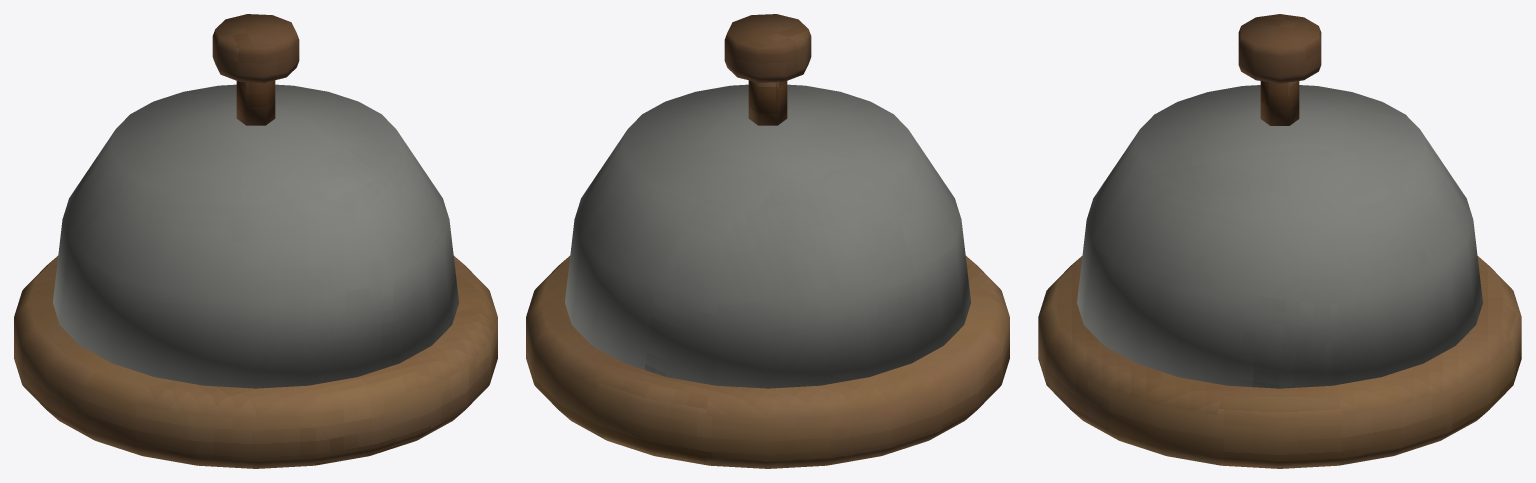
The model's file is bell.glb.
3 views of the same model, side by side, from view 1: azimuth 30°, elevation 25°; view 2: azimuth 150°, elevation 25°; view 3: azimuth 270°, elevation 25° (orthographic).
Visible parts, largest first — view 1: prop_bell_felt, prop_bell_wood; view 2: prop_bell_felt, prop_bell_wood; view 3: prop_bell_felt, prop_bell_wood.
Boxes of the visible parts, box(x1,y1,x2,y2) form: prop_bell_felt: box(53, 84, 458, 388); prop_bell_wood: box(14, 14, 497, 468); prop_bell_felt: box(565, 84, 970, 388); prop_bell_wood: box(526, 14, 1009, 468); prop_bell_felt: box(1077, 85, 1482, 388); prop_bell_wood: box(1038, 14, 1521, 468).
Bounding box in the file's own units: 0.2 × 0.156 × 0.2.
2 materials, 2 textured.
